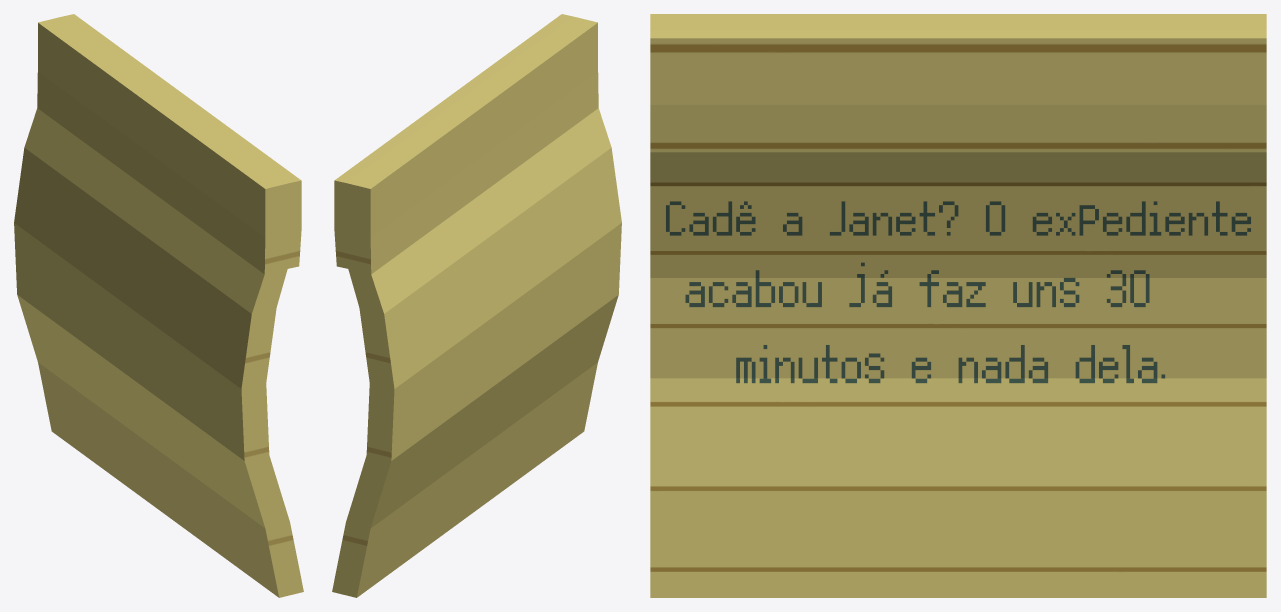
File: pouistiiti2.fbx
3 views of the same model, side by side, from view 1: azimuth 30°, elevation 25°; view 2: azimuth 150°, elevation 25°; view 3: azimuth 270°, elevation 25° (orthographic). The views are drawn at different scales.
Parts seen in each view (by area): view 1: Cube; view 2: Cube; view 3: Cube.
Part boxes in pixels (x1,y1,x2,y2): Cube: (14,14,303,597); Cube: (332,14,621,597); Cube: (650,14,1266,597).
Bounding box in the file's own units: 31.71 × 200 × 200.
Materials: 1 (1 with a texture image).
